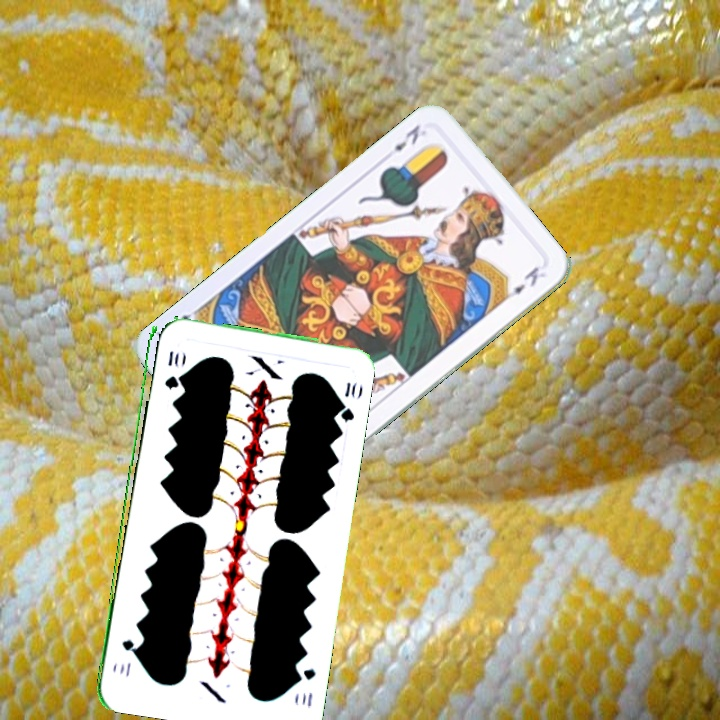EK: (380, 120, 423, 160)
G10: (292, 664, 318, 710), (160, 347, 177, 392)
